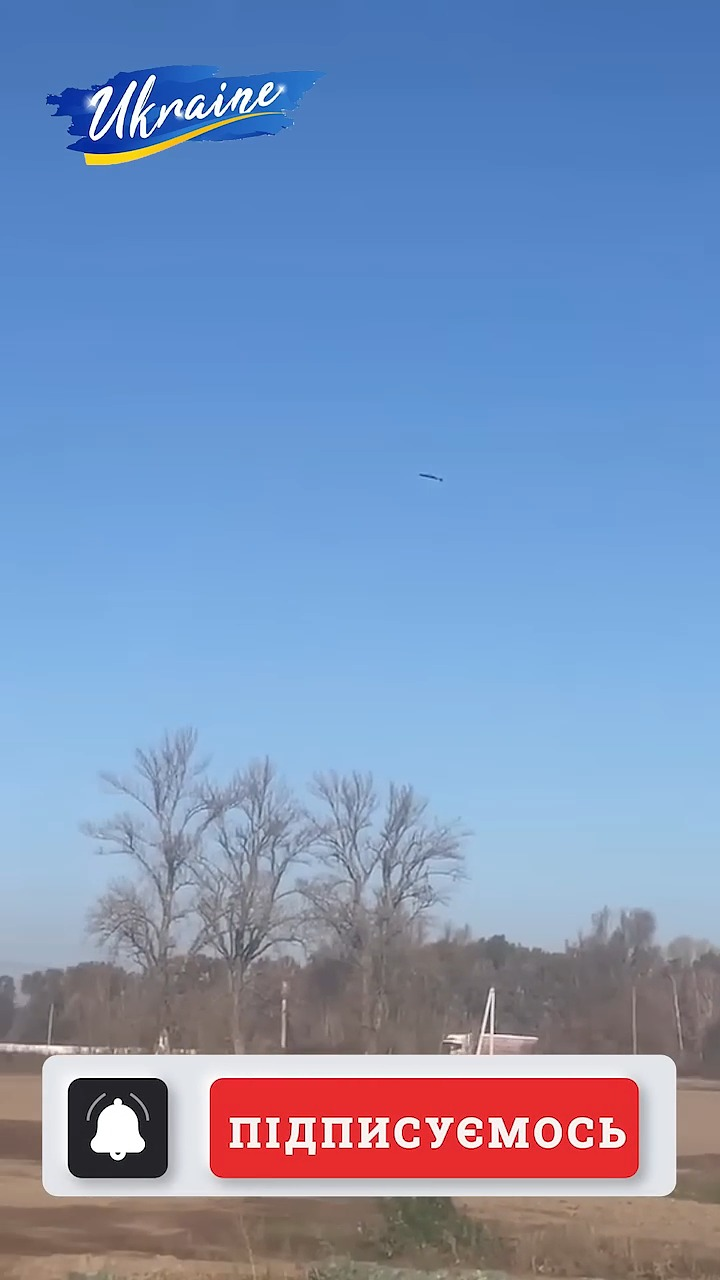shahed: (415, 469, 452, 486)
